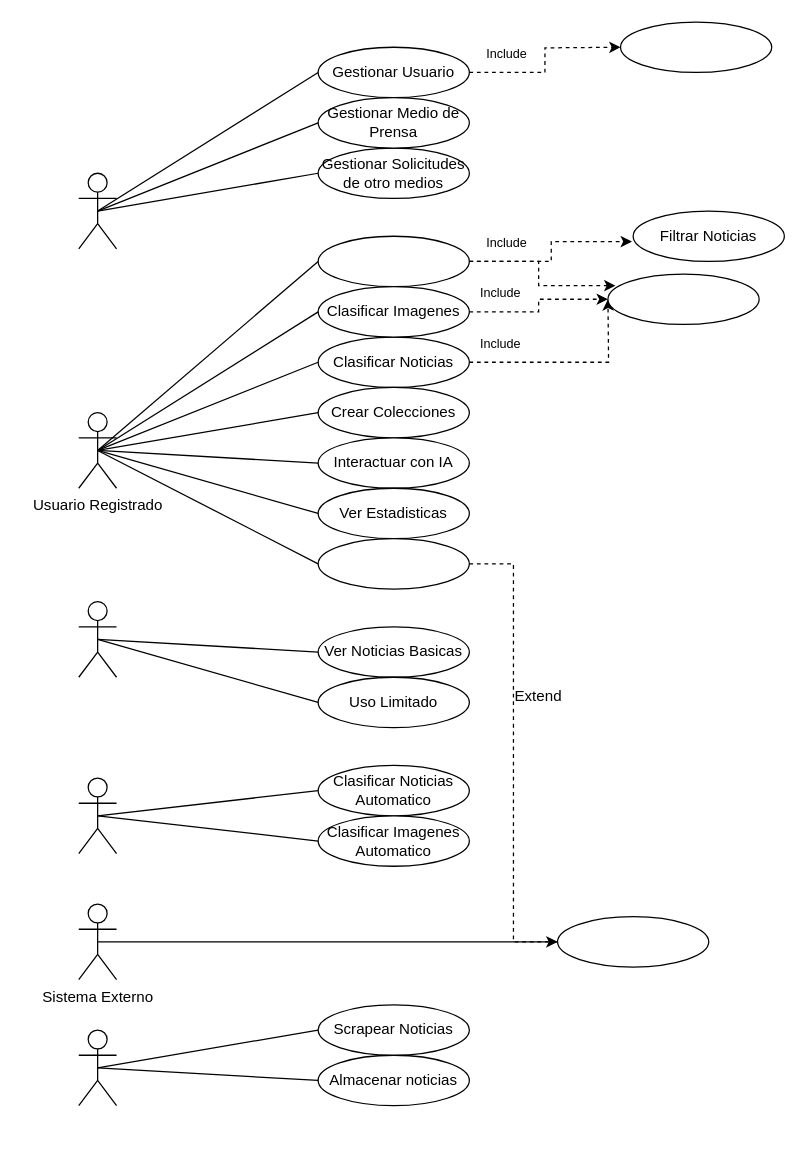
This 806x1154 diagram has some shape labels left out. The centre of each missing label's shape, as x and y in pixels:
"Administrador Sistema" belongs at (x=97, y=210).
"Banear Usuario" belongs at (x=695, y=46).
"Buscar Noticias" belongs at (x=393, y=261).
"Exportar Datos" belongs at (x=393, y=563).
"IA Modelo" belongs at (x=97, y=815).
"Scheduler" belongs at (x=97, y=1067).
"Trabajar Datos con API" belongs at (x=632, y=941).
"Usar IA" belongs at (x=683, y=298).
"Usuario Demo" belongs at (x=97, y=638).
